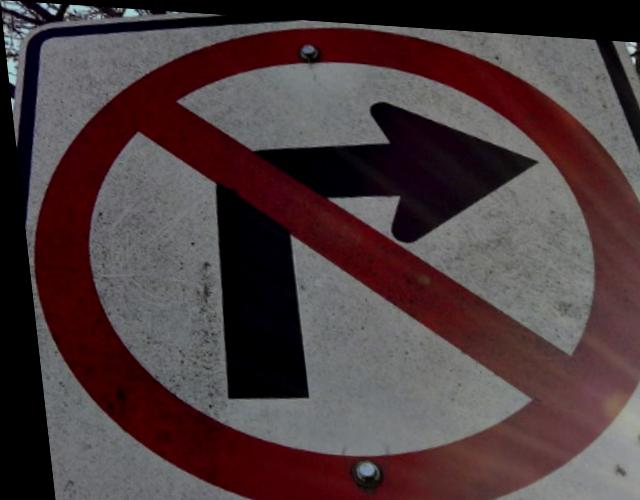not_turn_right: (14, 2, 640, 500)
